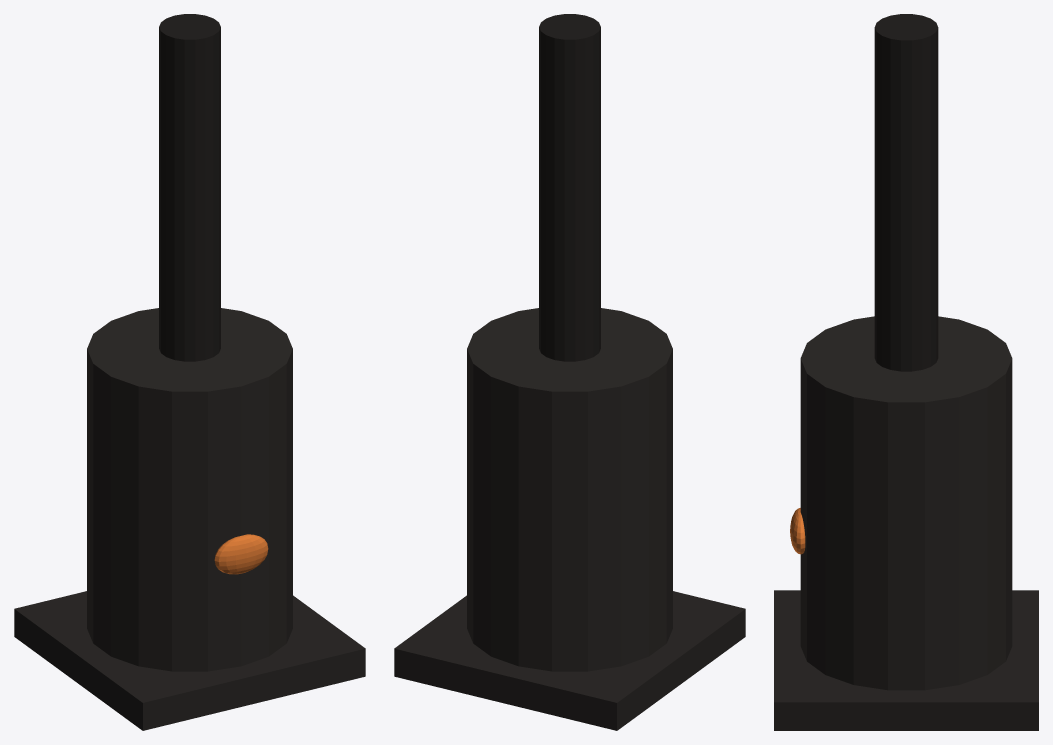
Rendered from stove.f6a96a35.glb.
3 renders of one model, left to right at view 1: azimuth 30°, elevation 25°; view 2: azimuth 150°, elevation 25°; view 3: azimuth 270°, elevation 25°, orthographic. The views are drawn at different scales.
Visible parts, largest first — view 1: body; view 2: body; view 3: body.
Part boxes in pixels (<box>): body: <box>14,14,365,730</box>; body: <box>394,14,745,730</box>; body: <box>774,14,1038,730</box>.
Bounding box in the file's own units: 0.5 × 1.35 × 0.5.
